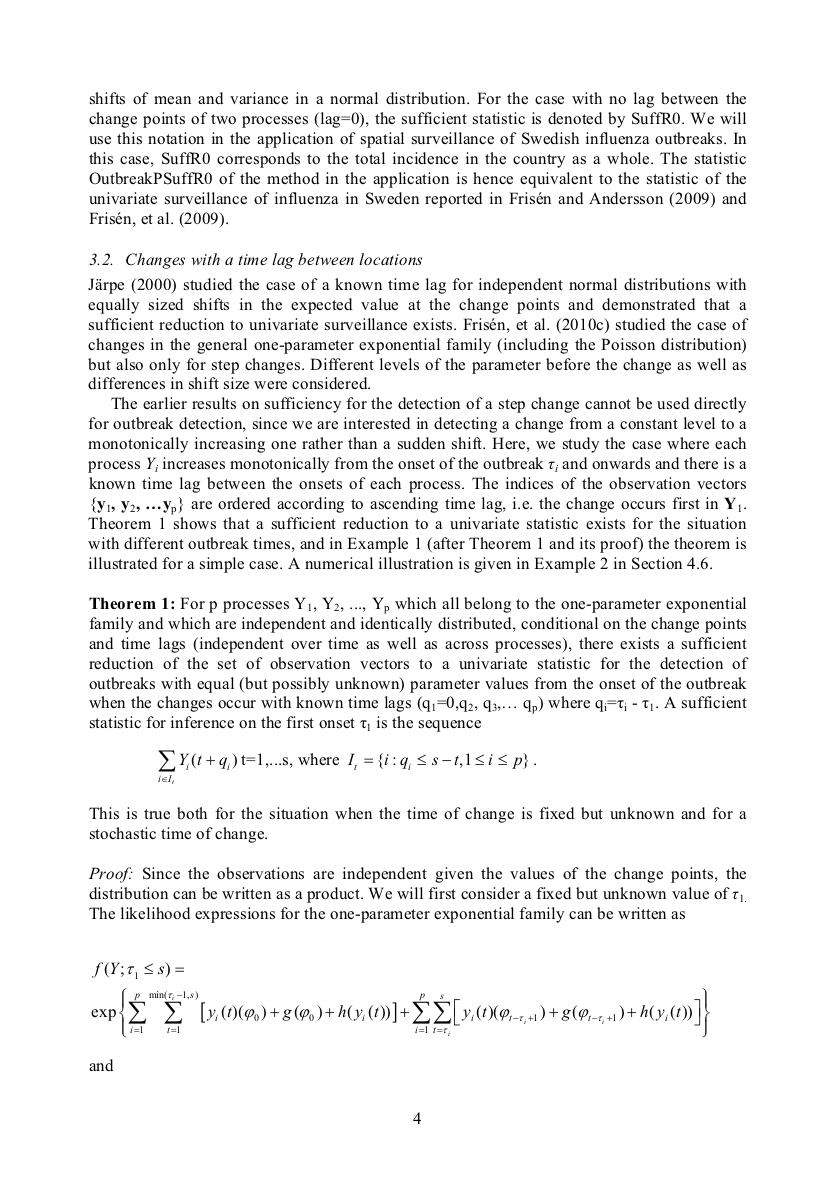formula: (91, 987, 709, 1038), (158, 748, 535, 784), (92, 961, 183, 979)
